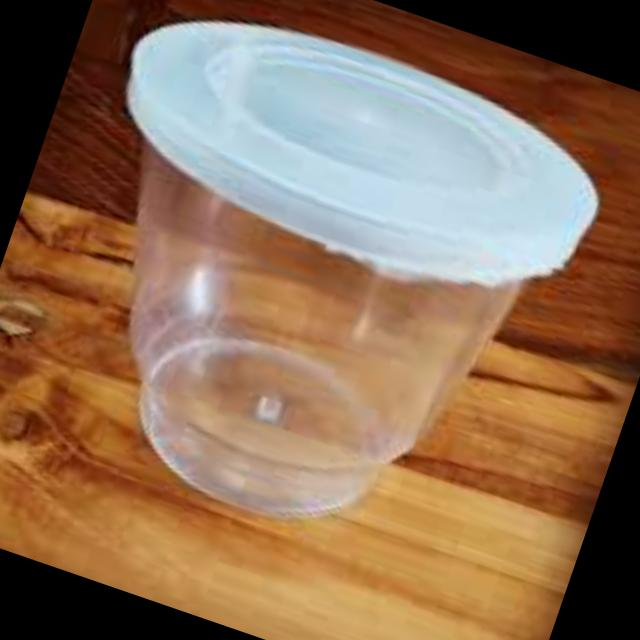GelasPlastik: (1, 0, 626, 589)
